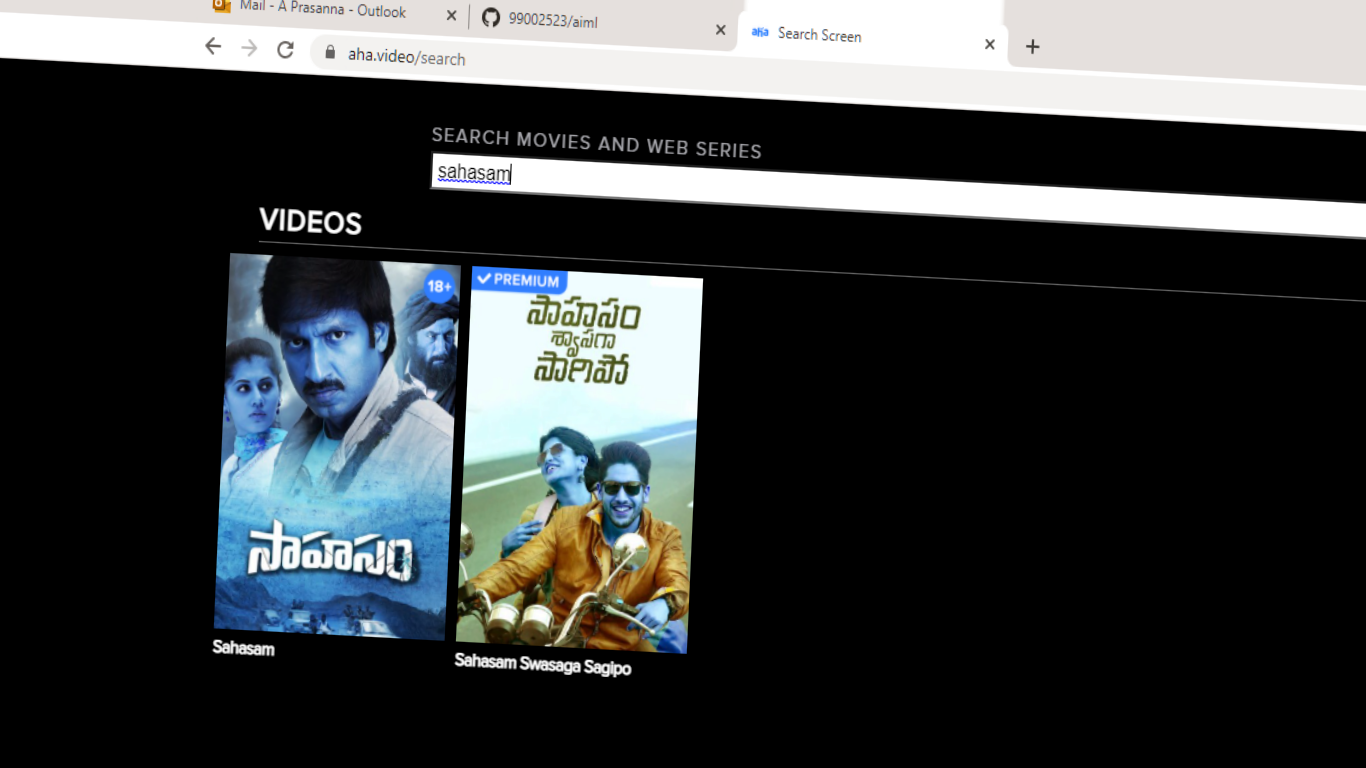resultsfound: (259, 192, 767, 266)
searchtextbox: (420, 116, 1360, 235)
